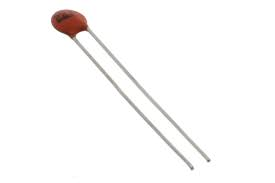ceramic capacitor: (40, 1, 114, 61)
